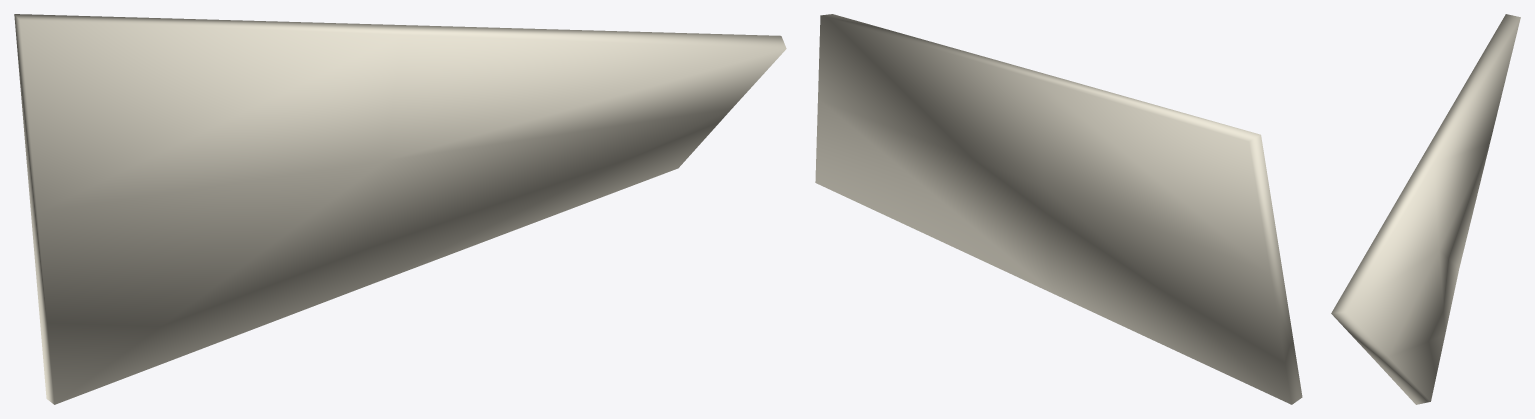
3 views of the same model, side by side, from view 1: azimuth 30°, elevation 25°; view 2: azimuth 150°, elevation 25°; view 3: azimuth 270°, elevation 25° (orthographic). The views are drawn at different scales.
Visible parts, largest first — view 1: ZA_3de9db0db26bdc82; view 2: ZA_3de9db0db26bdc82; view 3: ZA_3de9db0db26bdc82.
Boxes of the visible parts, left/top/right/bottom form: ZA_3de9db0db26bdc82: left=14, top=14, right=786, bottom=404; ZA_3de9db0db26bdc82: left=815, top=14, right=1302, bottom=404; ZA_3de9db0db26bdc82: left=1331, top=14, right=1520, bottom=404.
Bounding box in the file's own units: 0.0177 × 0.00909 × 0.0061.
